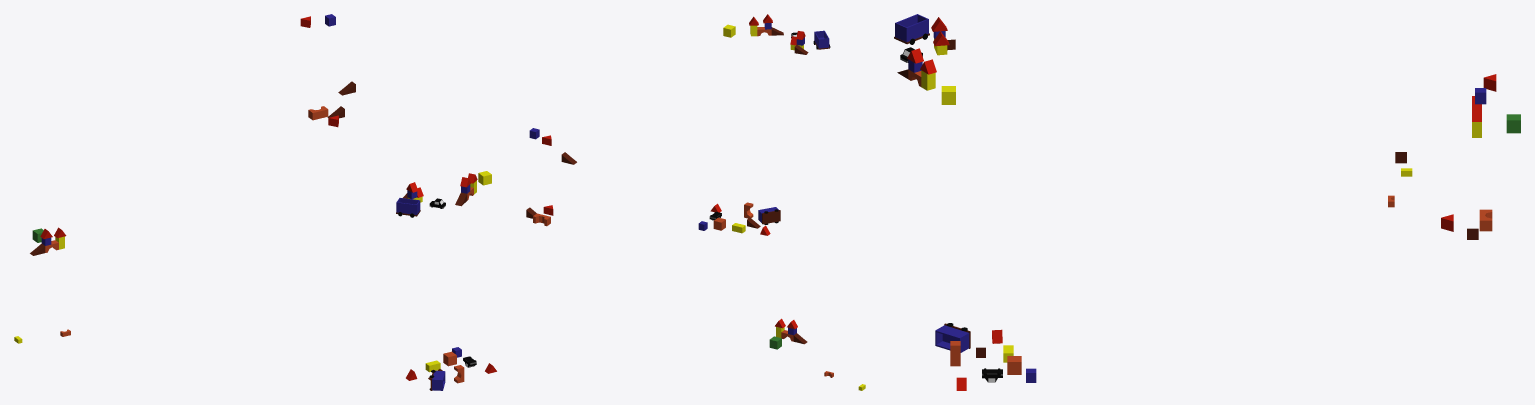
The model's file is Extras1.fbx.
3 renders of one model, left to right at view 1: azimuth 30°, elevation 25°; view 2: azimuth 150°, elevation 25°; view 3: azimuth 270°, elevation 25°, orthographic. The views are drawn at different scales.
Visible parts, largest first — view 1: no part large enough to name; view 2: no part large enough to name; view 3: Vagão.004, Vagão.005.
Boxes of the visible parts, x1=… form: Vagão.004: x1=895, y1=14, x2=928, y2=42; Vagão.005: x1=935, y1=325, x2=969, y2=352.
Bounding box in the file's own units: 11612 × 7113 × 12581.
